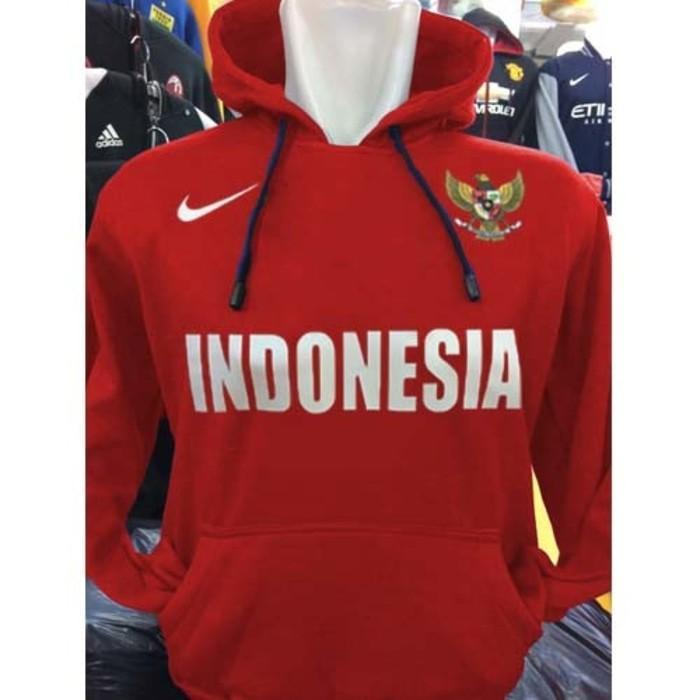sweater: (87, 2, 611, 700)
